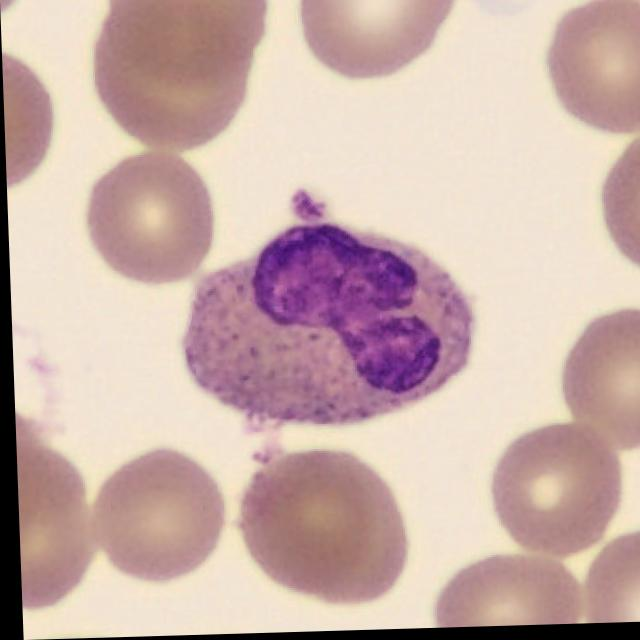Bastonete: (179, 222, 471, 428)
